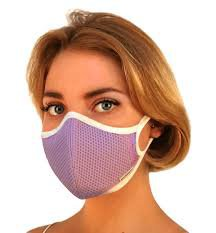mask: (24, 19, 186, 197)
